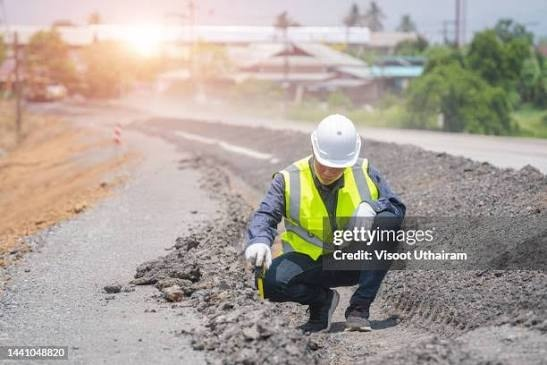hardhat: (302, 111, 369, 172)
person: (233, 108, 442, 342)
safety_vest: (272, 159, 398, 262)
